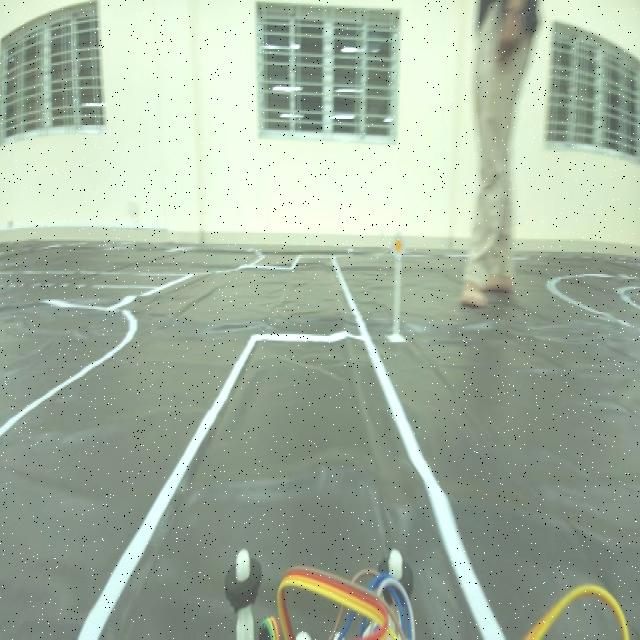priority: (387, 225, 407, 260)
